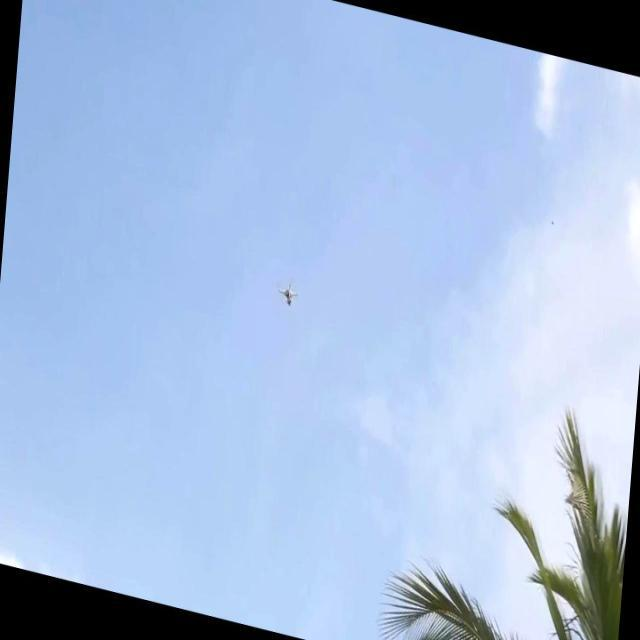drone: (274, 278, 300, 310)
